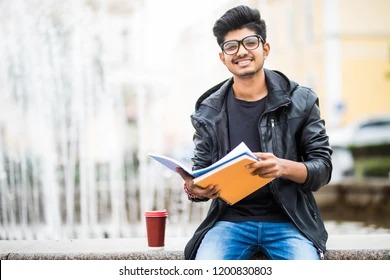without_mask: (216, 20, 271, 79)
